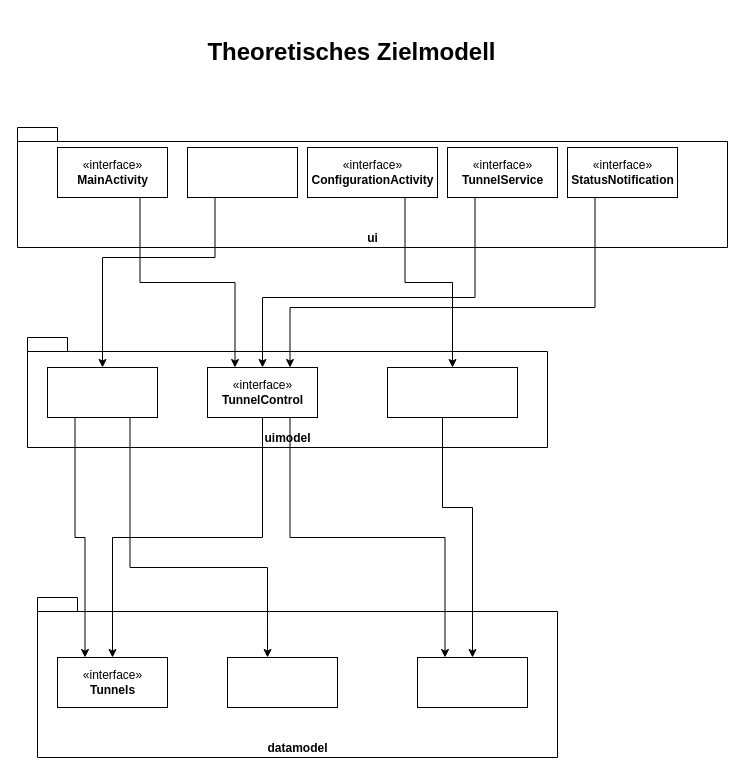
Image size: 745x775. Some labels were removed from this diagram. Here are the shapes that lost their labels. From the top down, the centre of each, then its label:
the point at 242,172: «interface» PurchaseActivity
the point at 102,392: «interface» PurchaseUI
the point at 452,392: «interface» ConfigurationControl
the point at 282,682: «interface» Purchases
the point at 472,682: «interface» Configuration
